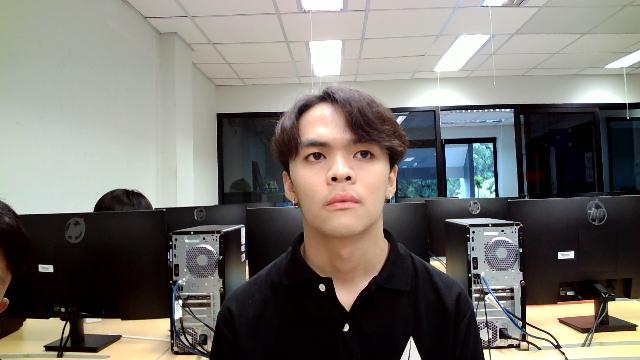fokus: (269, 84, 405, 229)
